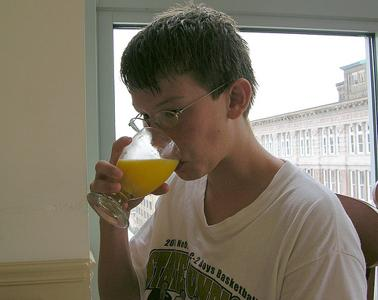person: (87, 2, 370, 300)
